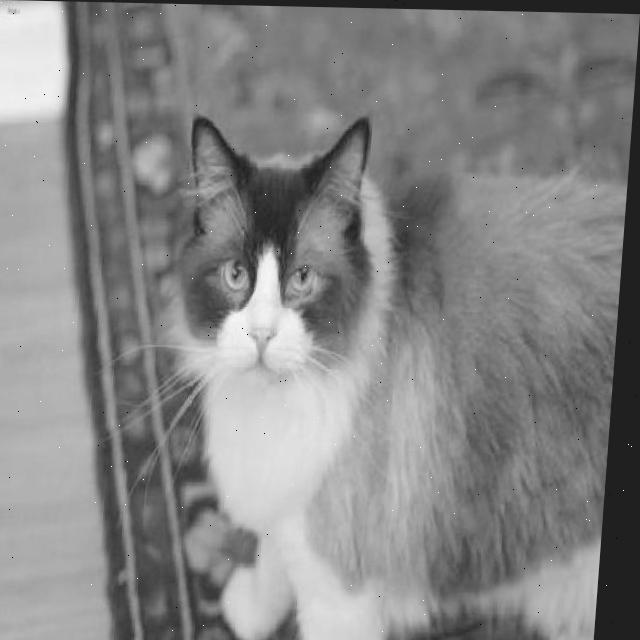Cat: (151, 109, 631, 640)
